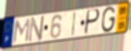6: (50, 13, 63, 39)
G: (100, 5, 117, 34)
I: (71, 10, 77, 38)
M: (12, 17, 32, 44)
N: (27, 15, 45, 44)
P: (83, 8, 101, 36)
